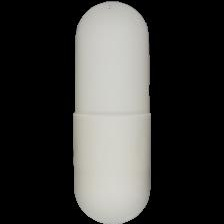16590-349: (0, 0, 224, 224)
